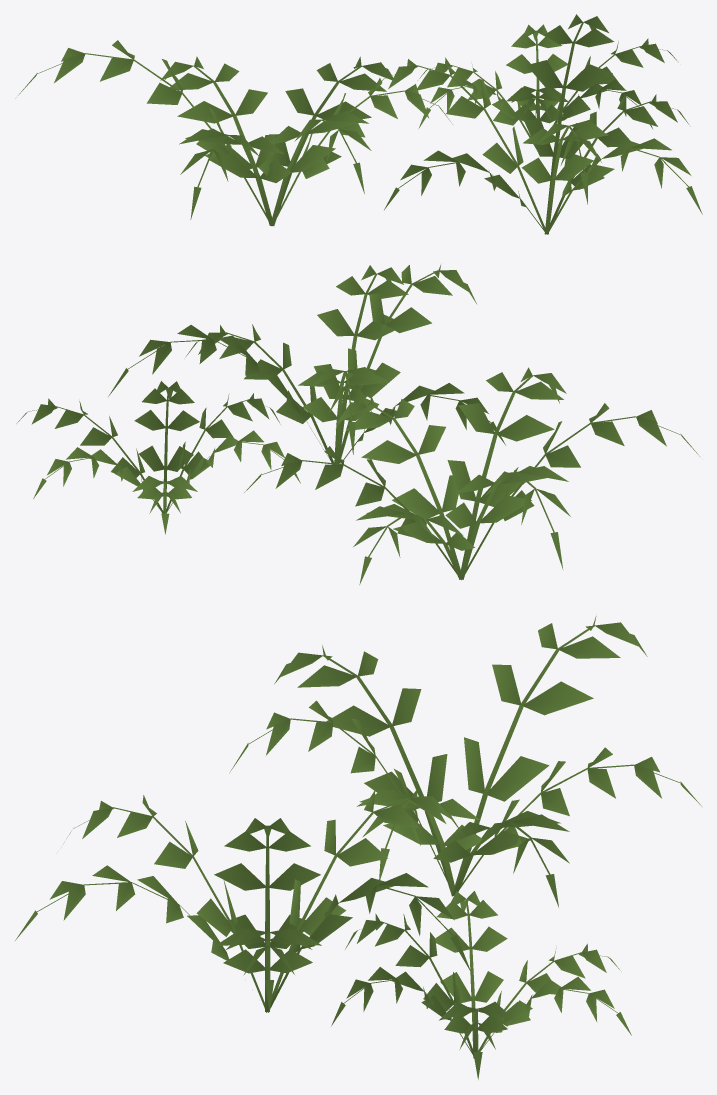
File: ForestFern_71_lod1.glb
3 views of the same model, one above another, from view 1: azimuth 30°, elevation 25°; view 2: azimuth 150°, elevation 25°; view 3: azimuth 270°, elevation 25° (orthographic). The views are drawn at different scales.
Parts seen in each view (by area): view 1: ForestFern_71_lod1; view 2: ForestFern_71_lod1; view 3: ForestFern_71_lod1.
Boxes of the visible parts, x1,y1,x2,y2 form: ForestFern_71_lod1: [15, 14, 702, 234]; ForestFern_71_lod1: [16, 265, 699, 584]; ForestFern_71_lod1: [15, 616, 701, 1079].
Size of the model in its own units: 1.6 by 0.4296 by 1.33.
